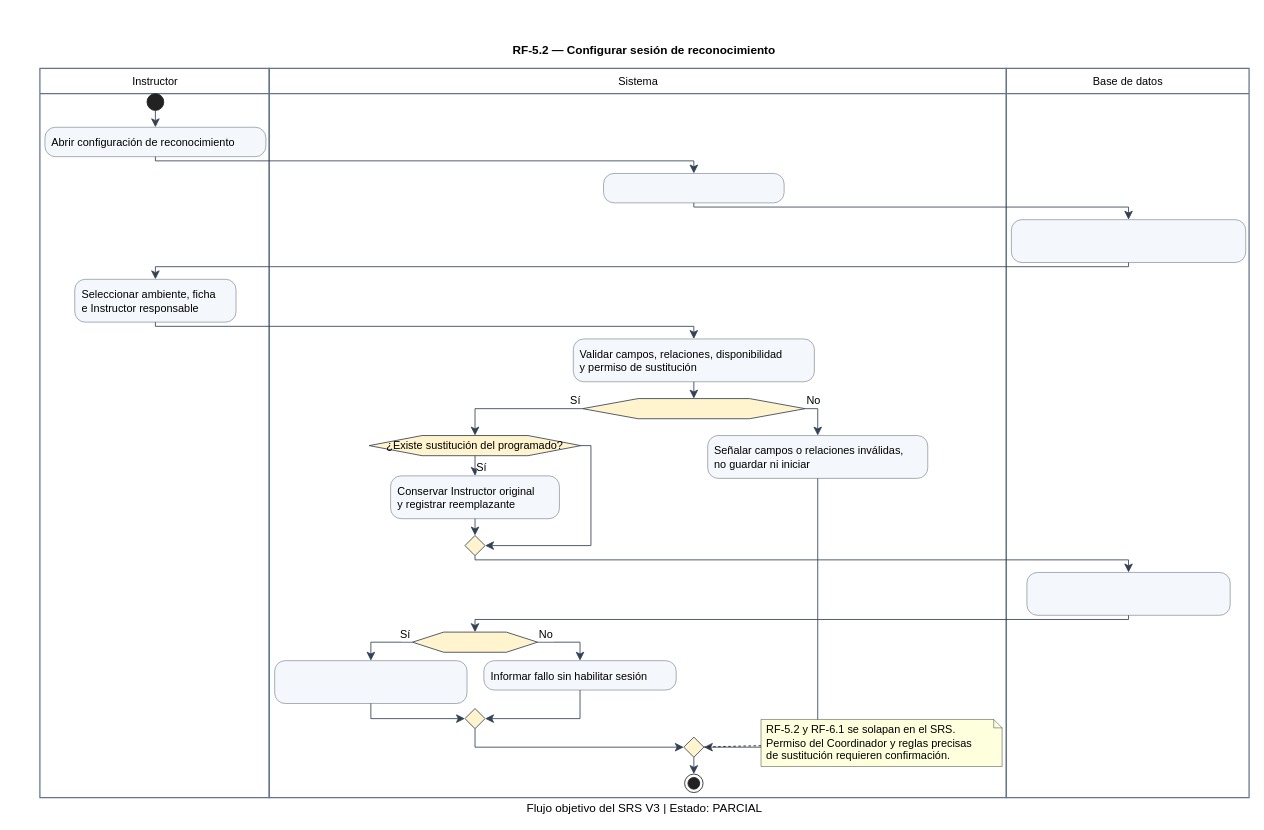
The diagram is 1264 pixels wide and 830 high, and some of its shapes have lost their labels. Here are the shapes that lost their labels. From the top down, the centre of each, then its label:
At pixel 693 188: "Validar sesión, rol y asignación".
At pixel 1128 240: "Consultar ambientes, fichas, instructores y horario o excepción aplicable".
At pixel 693 408: "¿Configuración válida y sin duplicado?".
At pixel 1128 593: "Guardar sesión y auditoría con ambiente, ficha y responsables".
At pixel 475 641: "¿Guardado exitoso?".
At pixel 370 681: "Mostrar resumen con sesión lista para iniciar registro de asistencia".
